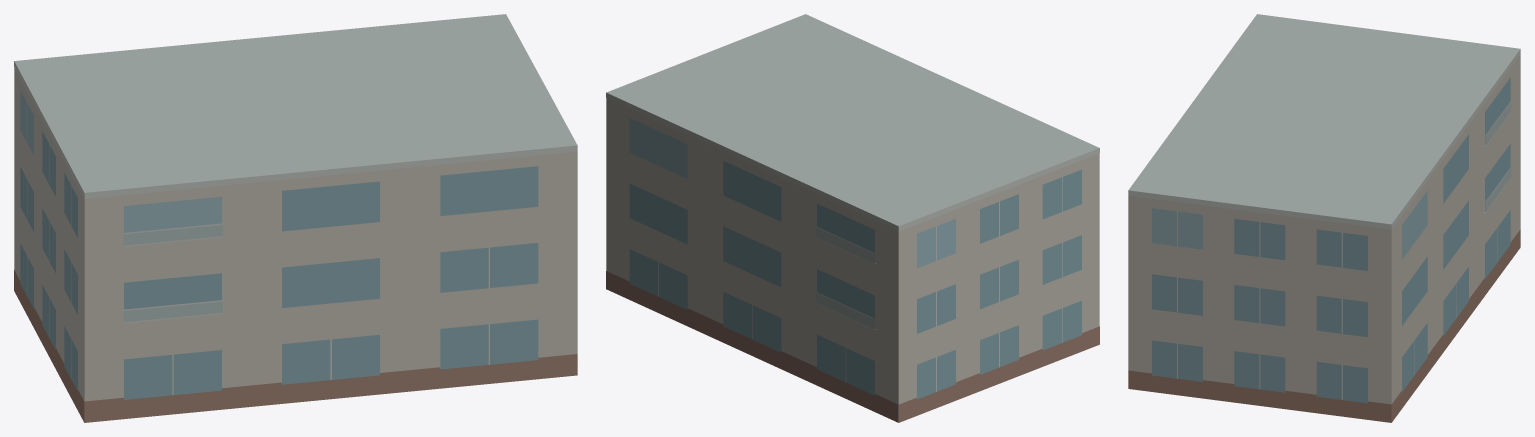
Rendered from survey-upis-32489605.glb.
The picture shows the model from 3 angles, left to right: view 1: azimuth 30°, elevation 25°; view 2: azimuth 150°, elevation 25°; view 3: azimuth 270°, elevation 25°; orthographic projection. The views are drawn at different scales.
Visible parts, largest first — view 1: survey-upis-32489605.tmp; view 2: survey-upis-32489605.tmp; view 3: survey-upis-32489605.tmp.
Boxes of the visible parts, left/top/right/bottom form: survey-upis-32489605.tmp: left=14, top=14, right=577, bottom=422; survey-upis-32489605.tmp: left=606, top=14, right=1099, bottom=422; survey-upis-32489605.tmp: left=1128, top=14, right=1520, bottom=422.
Bounding box in the file's own units: 20.81 × 9.15 × 16.4.
